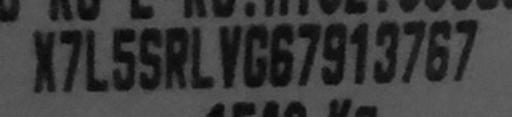letter: (418, 16, 458, 85), (186, 25, 222, 94), (238, 20, 272, 93), (450, 16, 484, 85), (290, 21, 324, 90), (26, 28, 62, 93), (319, 17, 351, 90), (268, 20, 300, 93), (368, 20, 402, 87), (54, 24, 86, 95), (134, 24, 166, 95), (106, 23, 138, 92), (80, 26, 112, 95), (345, 19, 375, 90), (400, 15, 428, 90), (215, 21, 245, 90), (164, 26, 192, 95)
